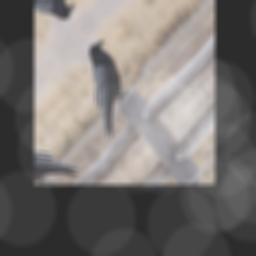Crow: (59, 35, 151, 143)
